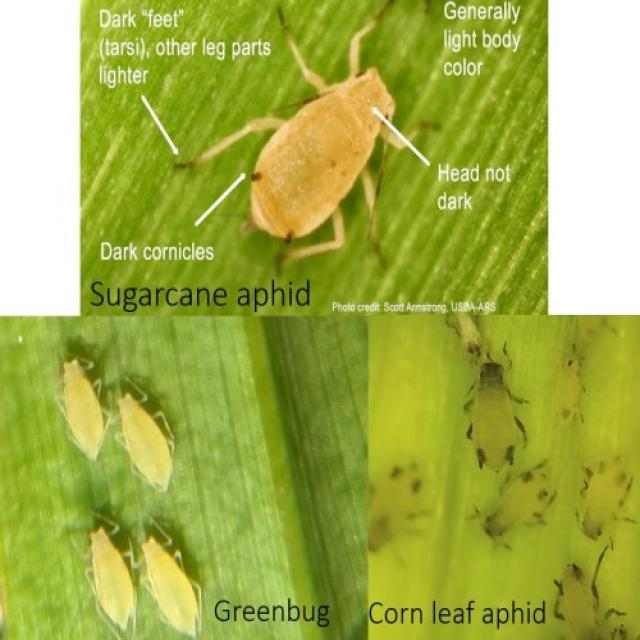Aphid-Grown-: (191, 8, 430, 277), (103, 369, 191, 497), (451, 339, 531, 473), (460, 454, 559, 548), (124, 524, 202, 634), (74, 513, 144, 632), (49, 351, 109, 459), (574, 444, 633, 549)
